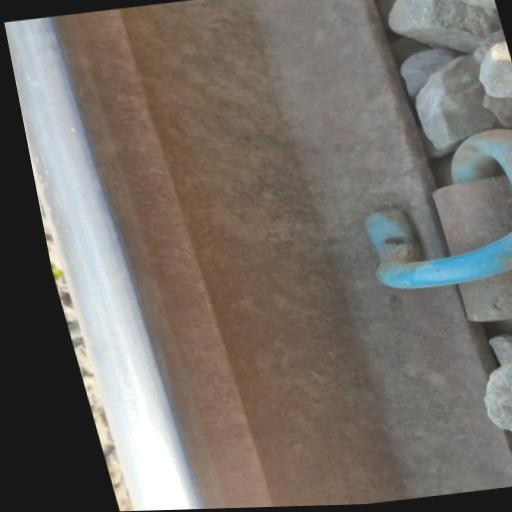erc_good: (366, 128, 512, 321)
